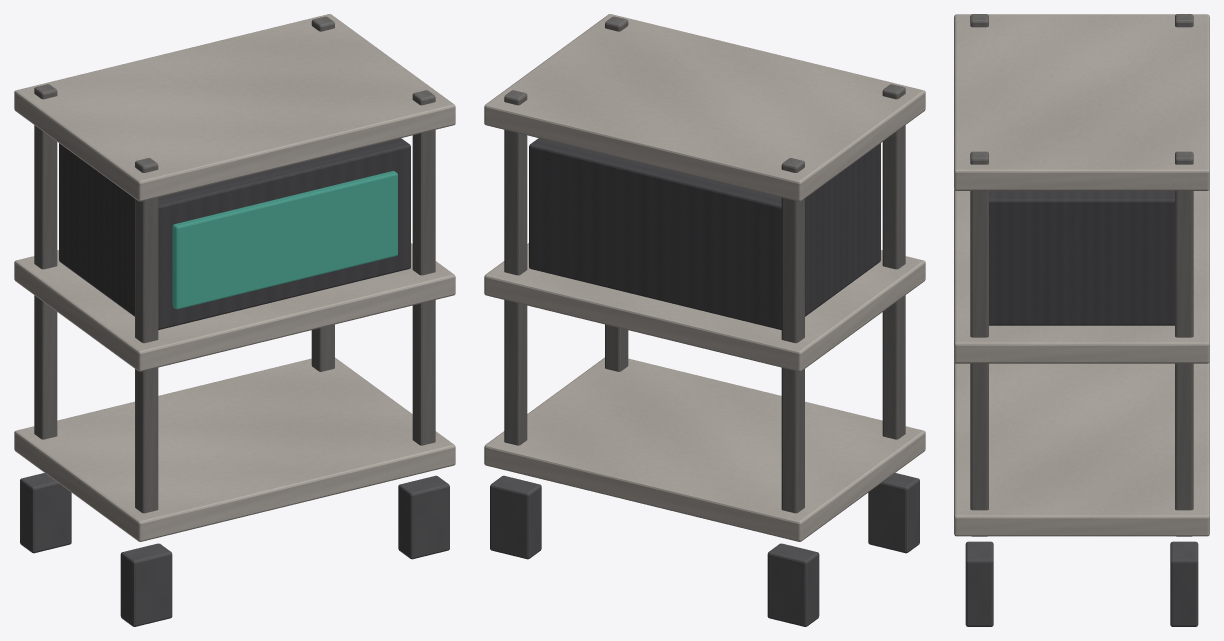
File: lab_equipment_trolley.glb
3 renders of one model, left to right at view 1: azimuth 30°, elevation 25°; view 2: azimuth 150°, elevation 25°; view 3: azimuth 270°, elevation 25°, orthographic.
Parts seen in each view (by area): view 1: MESH_MAT_Painted_Ivory.181, equipment_case.001, MESH_MAT_Control_Blue.136, equipment_face.001, MESH_MAT_Key_Plastic.032; view 2: MESH_MAT_Painted_Ivory.181, equipment_case.001, MESH_MAT_Control_Blue.136, MESH_MAT_Key_Plastic.032; view 3: MESH_MAT_Painted_Ivory.181, equipment_case.001, MESH_MAT_Control_Blue.136, MESH_MAT_Key_Plastic.032.
Boxes of the visible parts, <box> form: MESH_MAT_Painted_Ivory.181: <box>14,14,455,541</box>; equipment_case.001: <box>59,138,410,329</box>; MESH_MAT_Control_Blue.136: <box>34,16,435,513</box>; equipment_face.001: <box>172,171,397,309</box>; MESH_MAT_Key_Plastic.032: <box>20,473,449,626</box>; MESH_MAT_Painted_Ivory.181: <box>484,14,925,541</box>; equipment_case.001: <box>529,138,880,329</box>; MESH_MAT_Control_Blue.136: <box>504,16,905,513</box>; MESH_MAT_Key_Plastic.032: <box>490,473,919,626</box>; MESH_MAT_Painted_Ivory.181: <box>954,14,1209,536</box>; equipment_case.001: <box>989,191,1174,325</box>; MESH_MAT_Control_Blue.136: <box>970,14,1193,536</box>; MESH_MAT_Key_Plastic.032: <box>965,541,1198,626</box>.
Size of the model in its own units: 0.8 by 1.1 by 0.55.
Materials: 5 (4 with a texture image).
